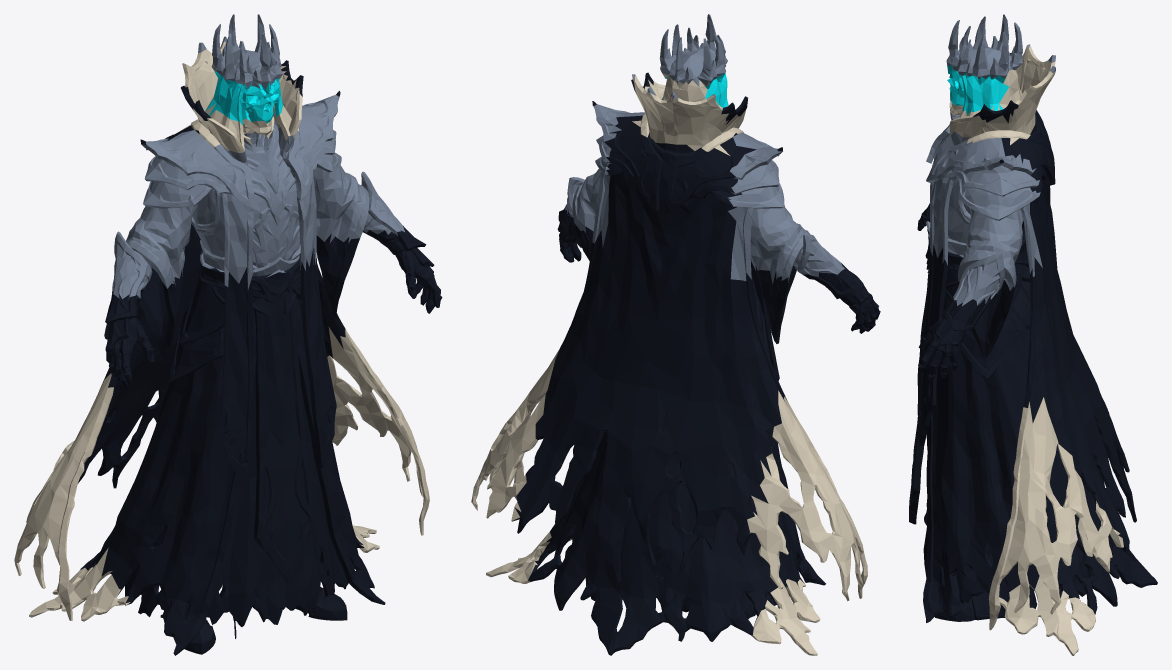
Rendered from lich_king_arm_r.obj.
The picture shows the model from 3 angles, left to right: view 1: azimuth 30°, elevation 25°; view 2: azimuth 150°, elevation 25°; view 3: azimuth 270°, elevation 25°; orthographic projection. The views are drawn at different scales.
Visible parts, largest first — view 1: LichKing; view 2: LichKing; view 3: LichKing.
Boxes of the visible parts, x1,y1,x2,y2 form: LichKing: (14, 14, 442, 655); LichKing: (471, 14, 880, 655); LichKing: (909, 14, 1157, 655).
Bounding box in the file's own units: 1.52 × 2.2 × 0.8777.
